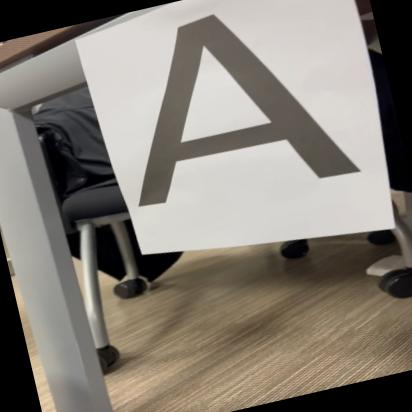seat: (96, 0, 380, 236)
